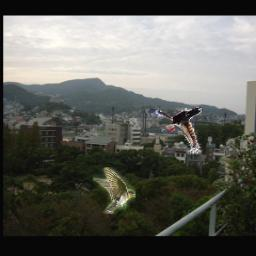Swallow: (93, 167, 135, 214)
Woodpecker: (146, 107, 203, 155)
